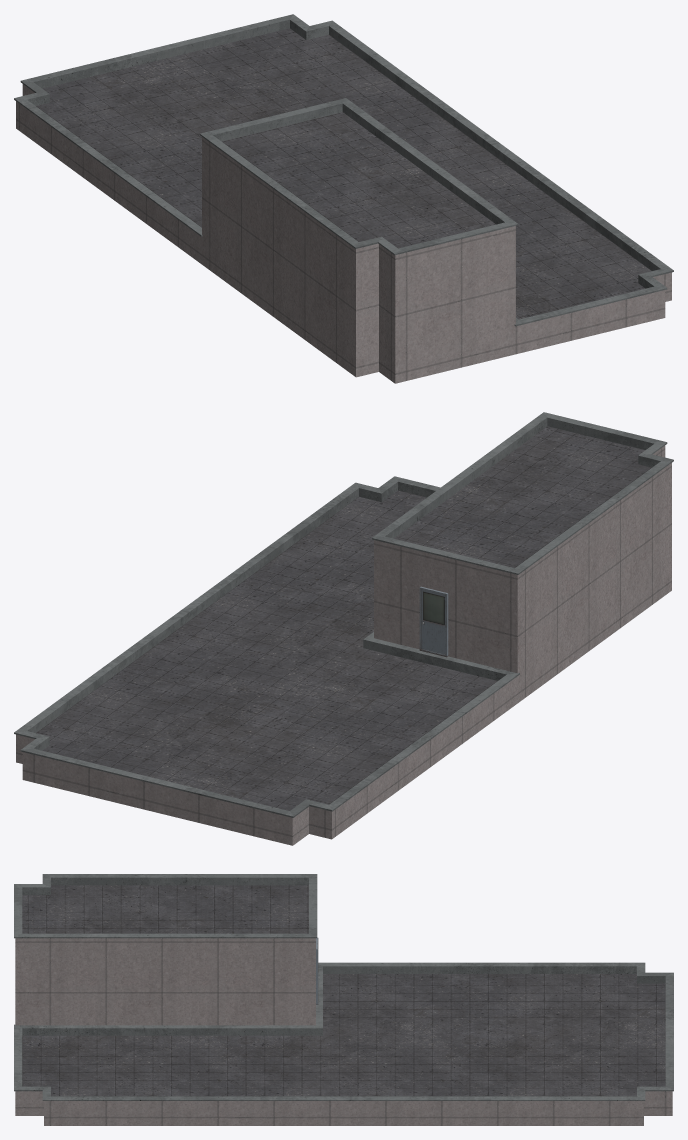
Rendered from jctBld24_12E_top.fbx.
3 renders of one model, top to bottom at view 1: azimuth 30°, elevation 25°; view 2: azimuth 150°, elevation 25°; view 3: azimuth 270°, elevation 25°, orthographic. The views are drawn at different scales.
Parts seen in each view (by area): view 1: jctBld24_12E_top; view 2: jctBld24_12E_top; view 3: jctBld24_12E_top.
Part boxes in pixels (box(x1,y1,x2,y2)): jctBld24_12E_top: box(14, 14, 673, 383); jctBld24_12E_top: box(14, 412, 673, 845); jctBld24_12E_top: box(14, 874, 673, 1125).
Bounding box in the file's own units: 1160 × 455 × 2360.
